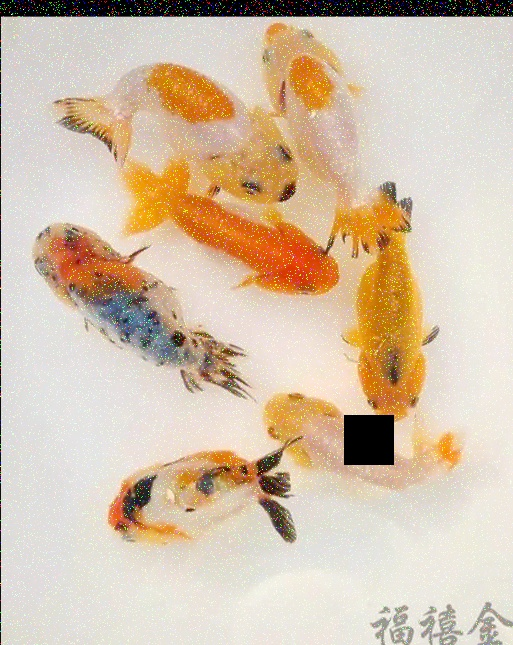fry: (14, 215, 237, 409), (89, 56, 296, 218), (249, 17, 394, 227), (75, 442, 305, 574), (263, 376, 493, 494), (135, 178, 347, 306), (333, 201, 446, 417)
